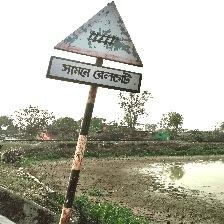Rail-crossing: (49, 0, 144, 94)
